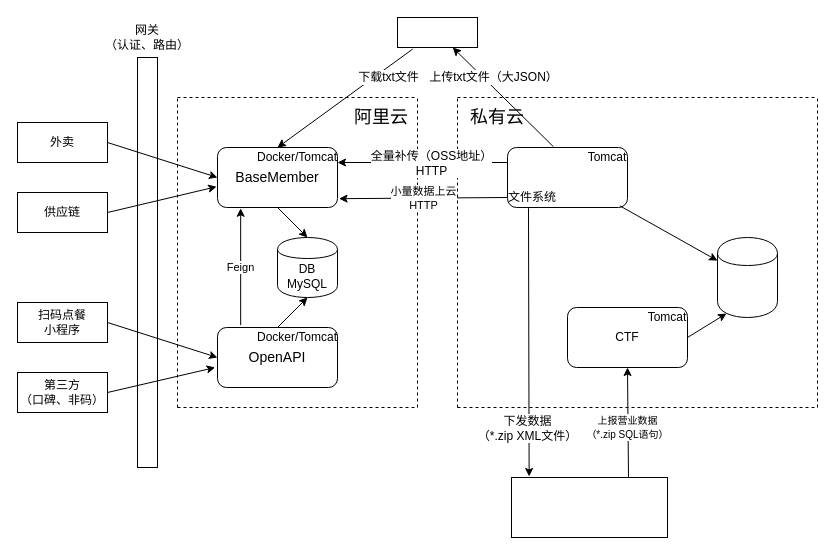
The diagram is 836 pixels wide and 555 high, and some of its shapes have lost their labels. The shapes that lost their labels are listed below. From the top down, each one's box as (x1, y1, x2, y2) in pixels, then its label:
(396, 16, 478, 48): 阿里OSS
(506, 146, 628, 208): 总部BOH
(716, 236, 778, 318): DB Oracle
(510, 476, 668, 538): 门店POS、HHT
